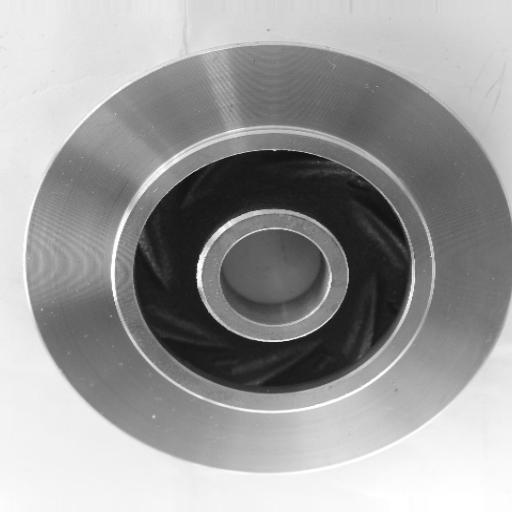polished_casting: (24, 41, 512, 477)
